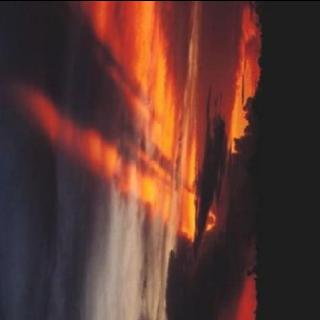Cumulonimbus: (0, 0, 256, 320)
